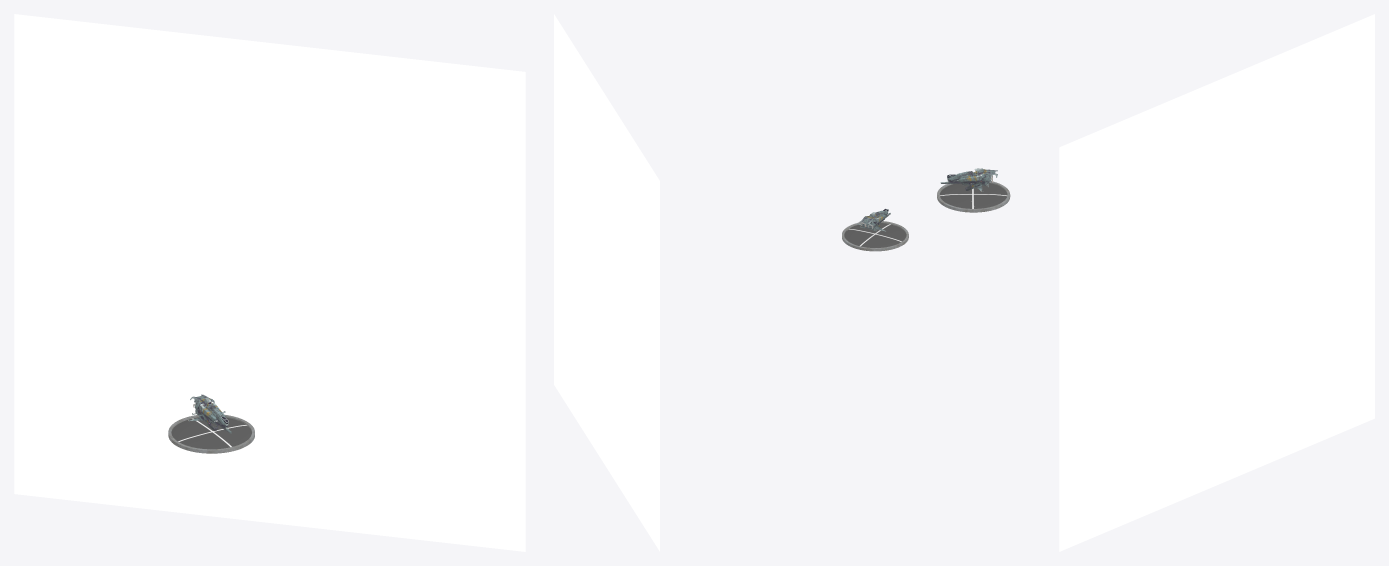
3 views of the same model, side by side, from view 1: azimuth 30°, elevation 25°; view 2: azimuth 150°, elevation 25°; view 3: azimuth 270°, elevation 25° (orthographic). The views are drawn at different scales.
Parts seen in each view (by area): view 1: Plane.045, TT, Talros ship.002; view 2: Plane.045, TT; view 3: Plane.045, TT, Talros ship.002.
Boxes of the visible parts, <box> form: Plane.045: <box>14,14,525,551</box>; TT: <box>168,414,254,453</box>; Talros ship.002: <box>188,394,231,433</box>; Plane.045: <box>554,14,659,551</box>; TT: <box>842,221,908,251</box>; Plane.045: <box>1059,14,1374,551</box>; TT: <box>937,181,1010,212</box>; Talros ship.002: <box>940,168,997,191</box>.
Bounding box in the file's own units: 36.3 × 41.36 × 40.58.
Materials: 7 (5 with a texture image).
